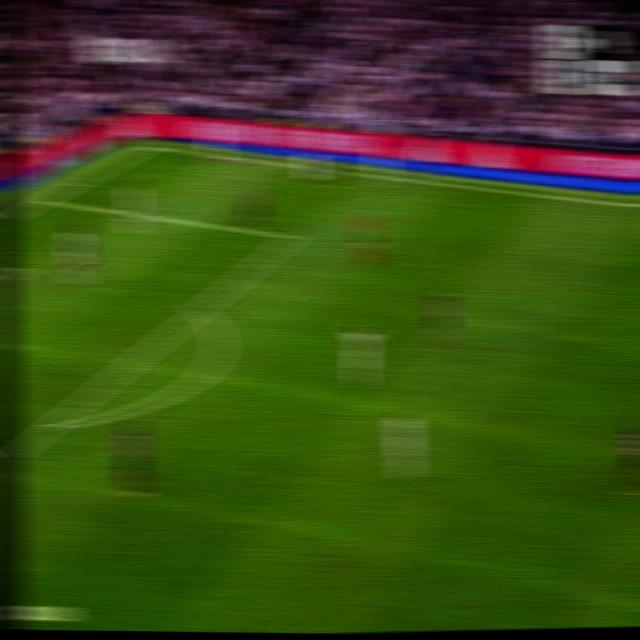bigarea_top_inner: (280, 226, 302, 246)
bigarea_top_outter: (35, 189, 56, 206)
bottom_arc_area_intersection: (40, 409, 66, 438)
corner: (137, 138, 160, 150)
smallarea_top_inner: (12, 259, 36, 280)
top_arc_area_intersection: (188, 297, 211, 319)
